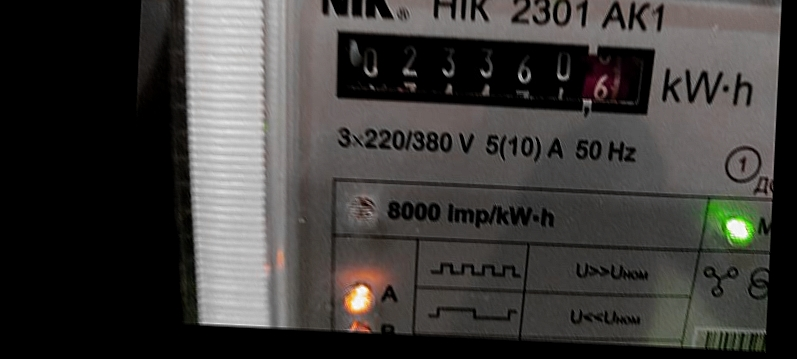0: (358, 41, 381, 77), (551, 46, 574, 82)
2: (398, 41, 421, 77)
3: (437, 43, 459, 79), (476, 44, 496, 78)
6: (513, 48, 534, 83), (590, 67, 610, 101)
screen: (319, 16, 674, 132)
